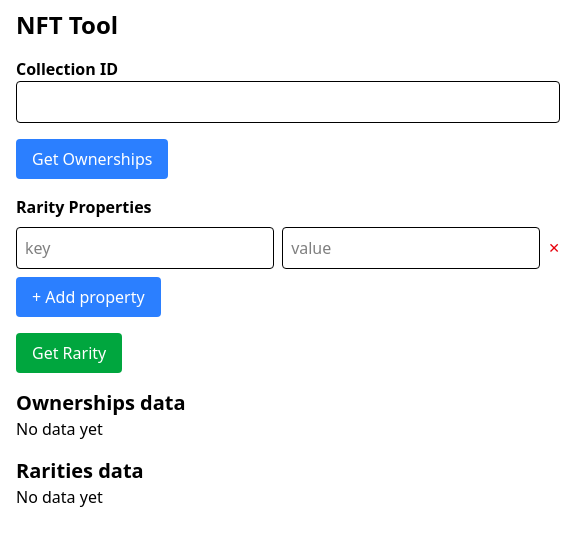
Test: shows error message when collectionId is empty
Click the button "Get Ownerships". click: (92, 159)
box: [16, 139, 168, 179]
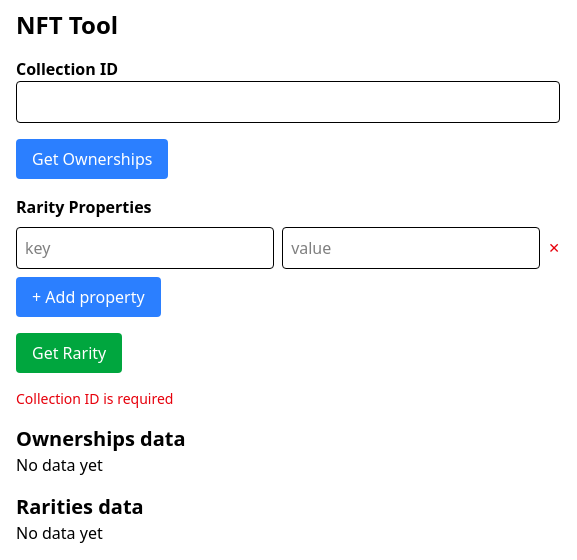
Result: the text "Collection ID is required" is shown at [16, 389, 173, 408]
